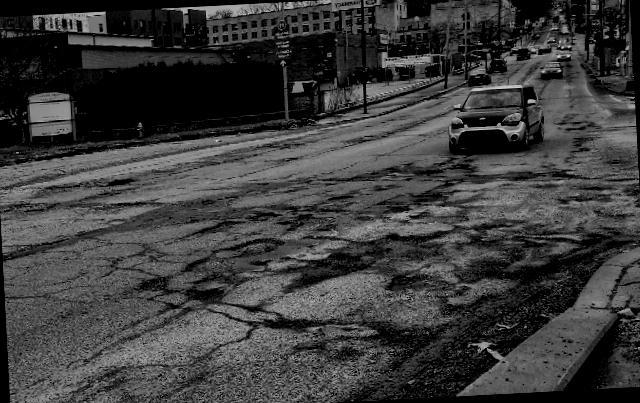Pothole: (227, 198, 640, 368), (412, 158, 472, 181), (108, 165, 136, 204)
